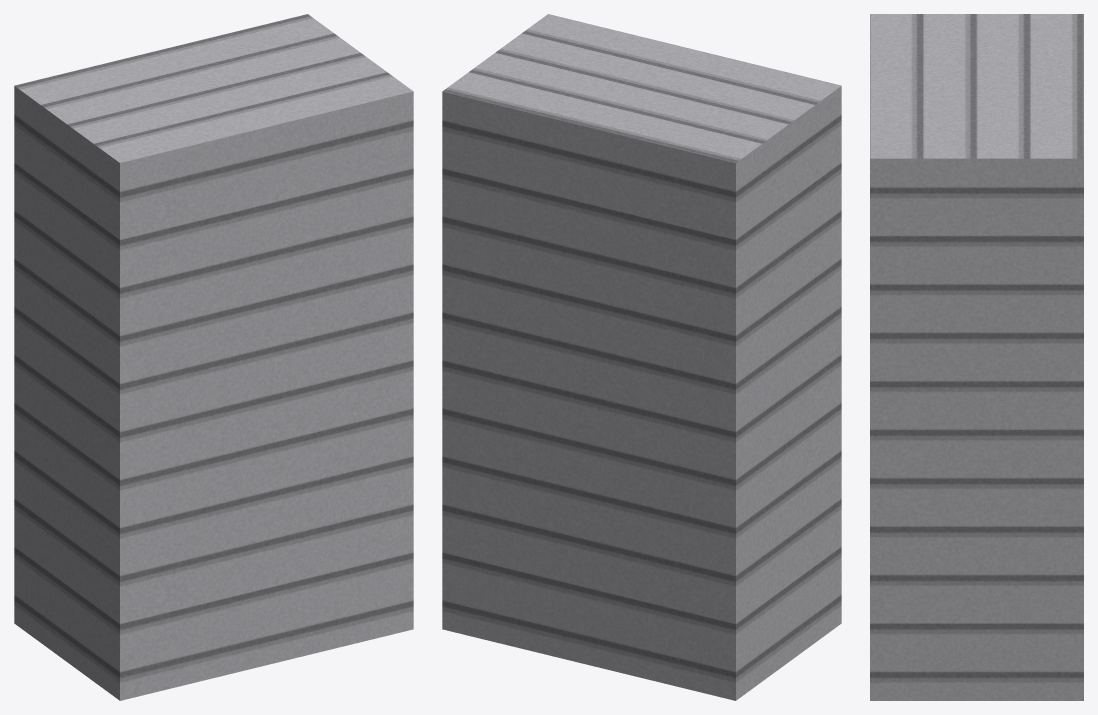
File: jukebox.glb
3 renders of one model, left to right at view 1: azimuth 30°, elevation 25°; view 2: azimuth 150°, elevation 25°; view 3: azimuth 270°, elevation 25°, orthographic.
Parts seen in each view (by area): view 1: jukebox-col; view 2: jukebox-col; view 3: jukebox-col.
Boxes of the visible parts, x1,y1,x2,y2 form: jukebox-col: (14, 14, 413, 700); jukebox-col: (442, 14, 841, 700); jukebox-col: (870, 14, 1083, 700).
Bounding box in the file's own units: 0.8 × 1.4 × 0.5.
1 material, 1 textured.
